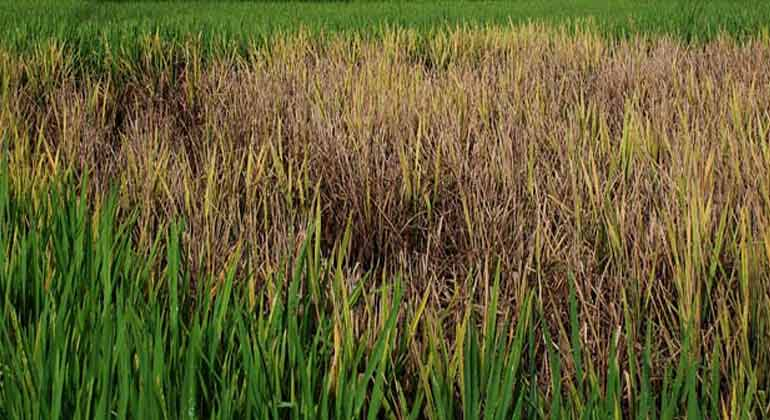Weed: (397, 72, 578, 159), (255, 98, 375, 201), (498, 210, 640, 274), (149, 94, 229, 193), (678, 59, 761, 152), (13, 85, 124, 152)
